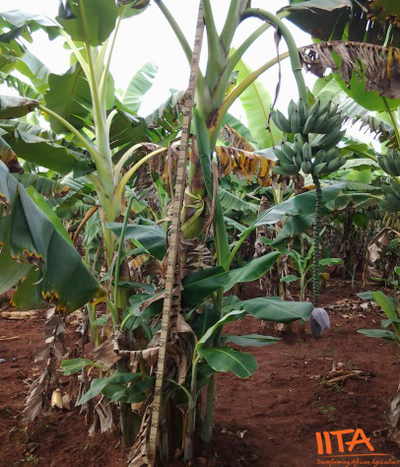bananaHand: (266, 95, 353, 181)
